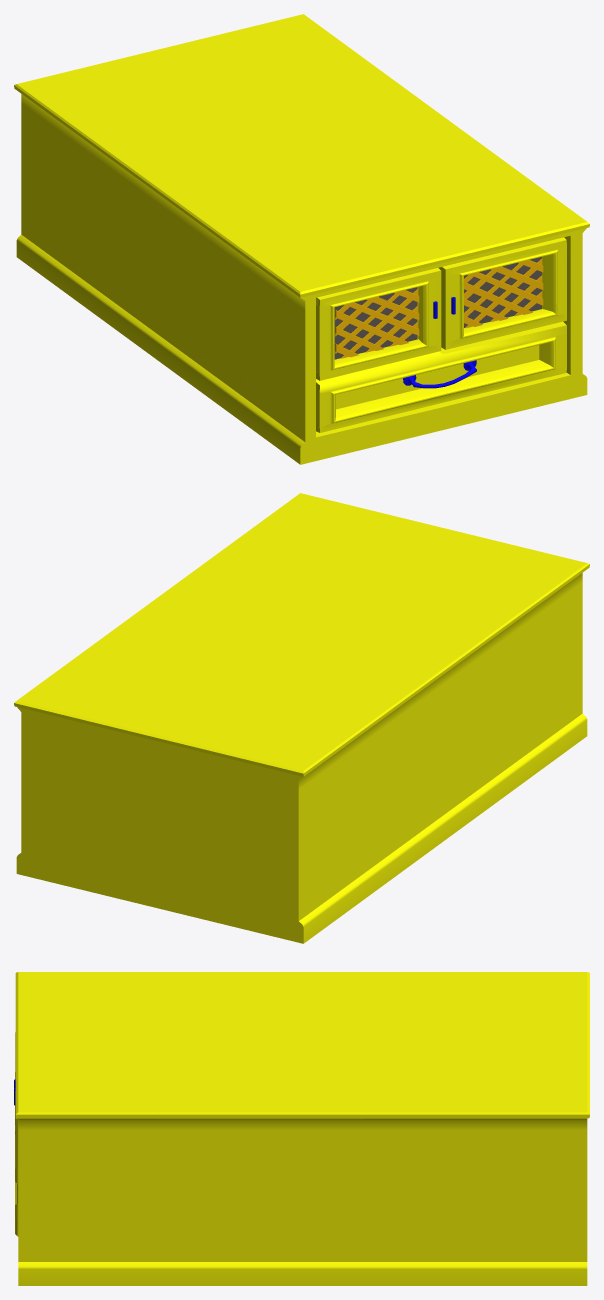
File: Nightstand.fbx
3 renders of one model, top to bottom at view 1: azimuth 30°, elevation 25°; view 2: azimuth 150°, elevation 25°; view 3: azimuth 270°, elevation 25°, orthographic.
Visible parts, largest first — view 1: Nightstand, WoodFill, WoodFill1; view 2: Nightstand; view 3: Nightstand.
Part boxes in pixels (x1,y1,x2,y2): Nightstand: [14, 14, 589, 464]; WoodFill: [334, 287, 419, 359]; WoodFill1: [464, 257, 543, 328]; Nightstand: [14, 493, 589, 943]; Nightstand: [15, 972, 589, 1285].
Size of the model in its own units: 0.8982 by 0.5129 by 1.54.
